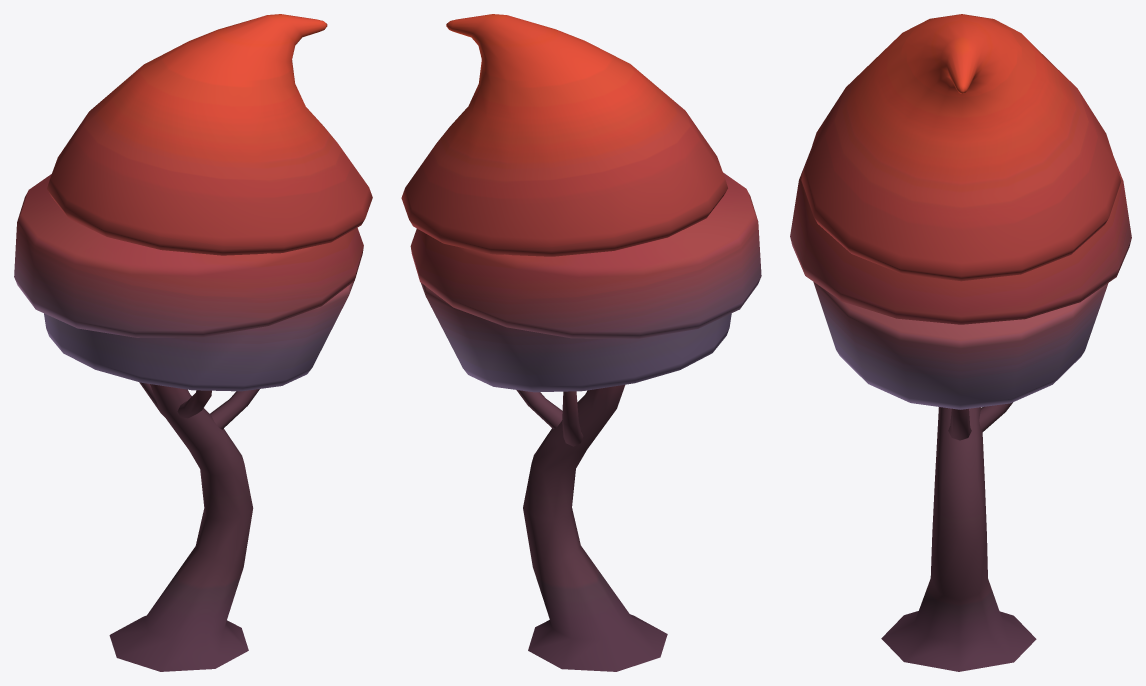
The model's file is Tree_18.fbx.
3 renders of one model, left to right at view 1: azimuth 30°, elevation 25°; view 2: azimuth 150°, elevation 25°; view 3: azimuth 270°, elevation 25°, orthographic. The views are drawn at different scales.
Visible parts, largest first — view 1: Tree_18; view 2: Tree_18; view 3: Tree_18.
Part boxes in pixels (<box>): Tree_18: <box>14,14,372,671</box>; Tree_18: <box>401,14,761,671</box>; Tree_18: <box>790,14,1131,671</box>.
Bounding box in the file's own units: 219 × 390 × 186.
